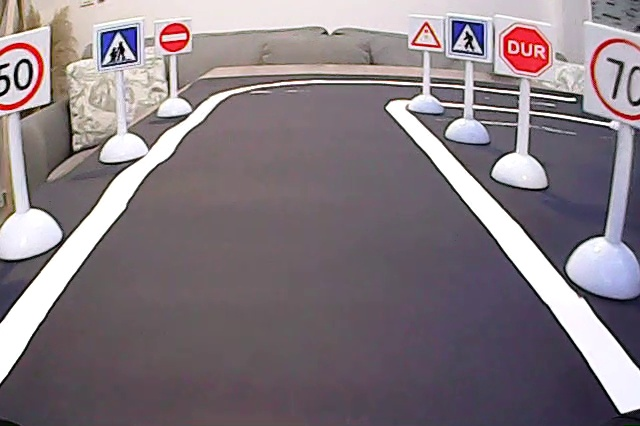do not enter: (156, 21, 192, 54)
pedestrian crossing: (449, 18, 489, 61)
red light: (411, 18, 442, 53)
school crossing: (97, 24, 140, 70)
speed limit 50: (1, 35, 49, 114)
speed limit 70: (586, 34, 640, 124)
stop sign: (497, 21, 554, 78)
